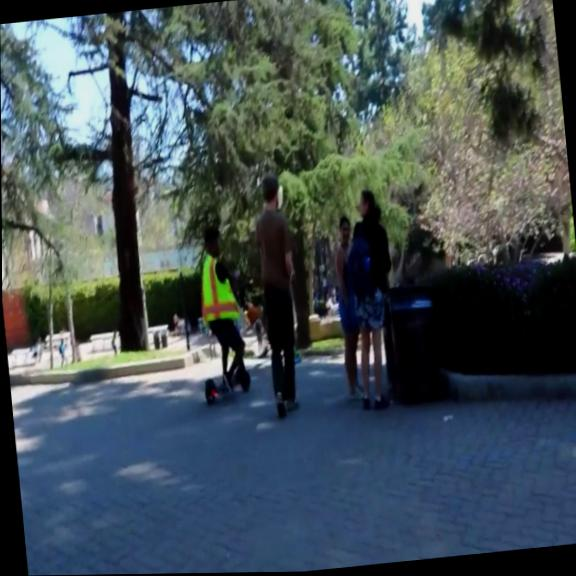safety_vest: (196, 252, 240, 327)
